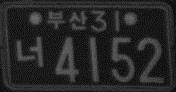1: (88, 35, 101, 83), (113, 9, 121, 33)
2: (137, 36, 165, 84)
3: (90, 9, 107, 32)
4: (54, 36, 80, 84)
5: (110, 36, 136, 83)
너: (16, 35, 44, 69)
부산_O: (47, 9, 88, 31)
